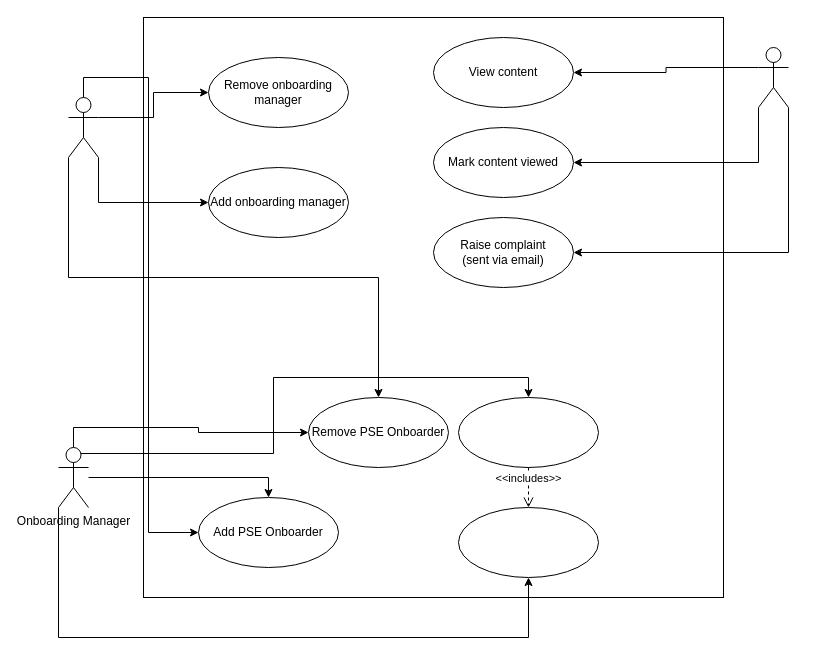
Some shapes in this 833 by 663 pixel diagram are drawn without their labels. Here are the shapes that lost their labels. From the top down, the centre of each, then its label:
(773,77): PSE Onboarder
(83,127): Super Admin
(528,432): Add new page
(528,542): Add content
